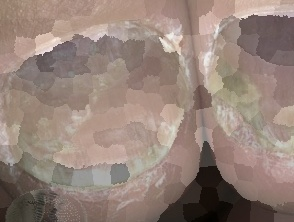Nail_psoriasis: (0, 16, 204, 214), (165, 15, 294, 200)
